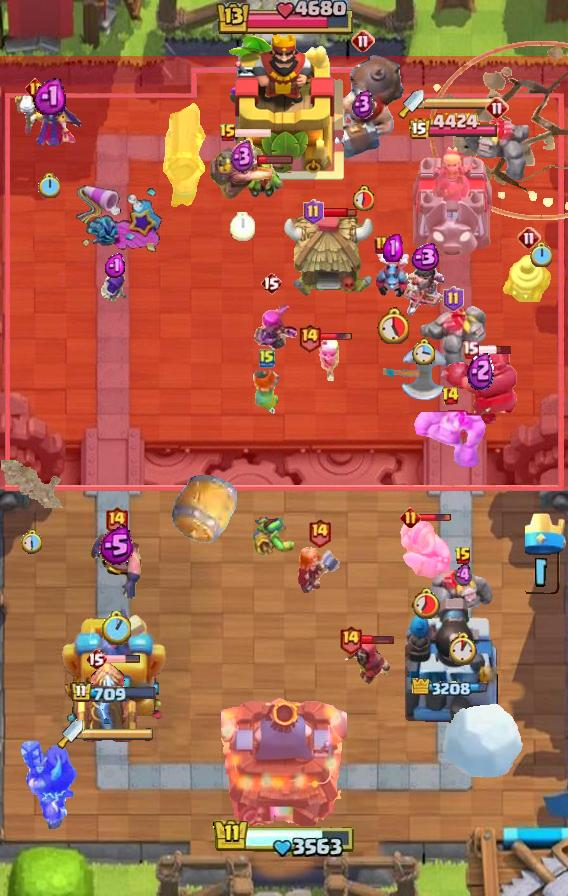archer-evolution: (242, 300, 300, 358)
axe: (383, 346, 449, 402)
bar: (476, 344, 513, 356), (235, 127, 272, 139), (322, 206, 357, 218), (257, 154, 294, 165), (360, 634, 395, 645), (105, 654, 141, 664), (418, 513, 452, 523), (319, 332, 353, 342)
bar-level: (338, 624, 363, 655), (307, 517, 332, 548), (104, 505, 129, 536), (297, 322, 322, 353), (517, 226, 541, 250), (485, 96, 509, 120), (351, 29, 375, 53), (443, 286, 464, 312), (303, 199, 324, 225), (85, 647, 107, 671), (260, 271, 282, 295), (400, 507, 421, 528), (25, 78, 46, 99), (441, 386, 460, 406), (454, 546, 472, 566), (219, 123, 237, 143), (462, 340, 479, 359), (259, 348, 275, 368), (374, 235, 390, 255)
cannoneer-tower: (405, 595, 501, 731)
clock: (377, 307, 409, 344), (447, 632, 479, 666), (101, 611, 131, 645), (411, 587, 442, 619), (230, 212, 255, 241), (412, 338, 436, 365), (21, 529, 44, 554), (352, 185, 374, 211), (530, 242, 552, 267), (38, 173, 60, 198)
dagger-duchess-tower: (62, 601, 166, 731), (409, 142, 497, 256)
dagger-duchess-tower-bar: (83, 727, 155, 741), (424, 97, 496, 111)
dirt: (1, 460, 63, 508)
elite-barbarian: (399, 521, 453, 579)
elixir: (99, 525, 134, 566), (33, 76, 66, 115), (467, 351, 494, 390), (407, 243, 441, 271), (230, 140, 255, 174), (352, 89, 374, 119), (104, 253, 127, 279), (383, 234, 403, 262), (455, 563, 472, 588)
executioner: (89, 531, 143, 601)
goblin: (246, 157, 284, 197)
golemite: (417, 304, 489, 376), (413, 409, 488, 469), (464, 119, 530, 181), (429, 564, 497, 624)
king-tower: (222, 31, 346, 181), (221, 690, 347, 826)
king-tower-bar: (213, 818, 356, 860), (214, 0, 355, 38)
miner: (208, 133, 276, 201)
minion: (374, 249, 412, 299)
princess: (400, 258, 448, 320)
skeleton-evolution: (99, 270, 131, 308), (314, 339, 342, 381)
spear-goblin: (251, 514, 299, 556)
tesla: (74, 659, 142, 745)
tower-bar: (408, 112, 499, 142), (70, 681, 158, 705), (412, 678, 494, 700)
valkyrie: (297, 546, 341, 596), (248, 365, 286, 417)
witch: (15, 88, 83, 150)
wizard: (340, 638, 392, 686)
zappy: (502, 242, 556, 302)
